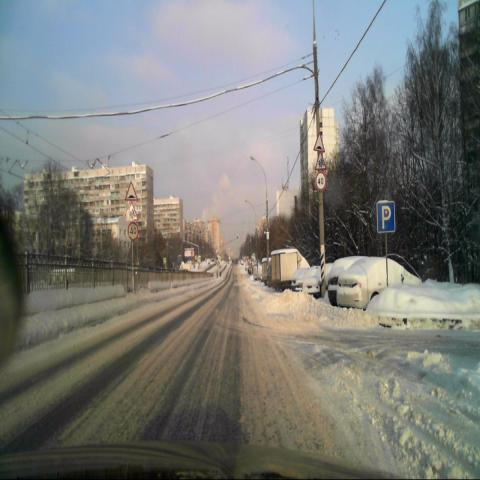1_17: (313, 131, 325, 153)
